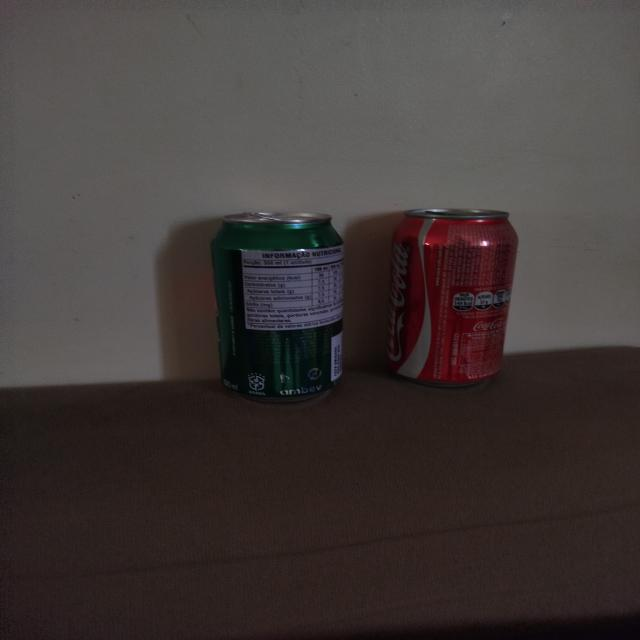Coca Cola: (386, 207, 518, 389)
Guarana: (212, 212, 347, 402)
